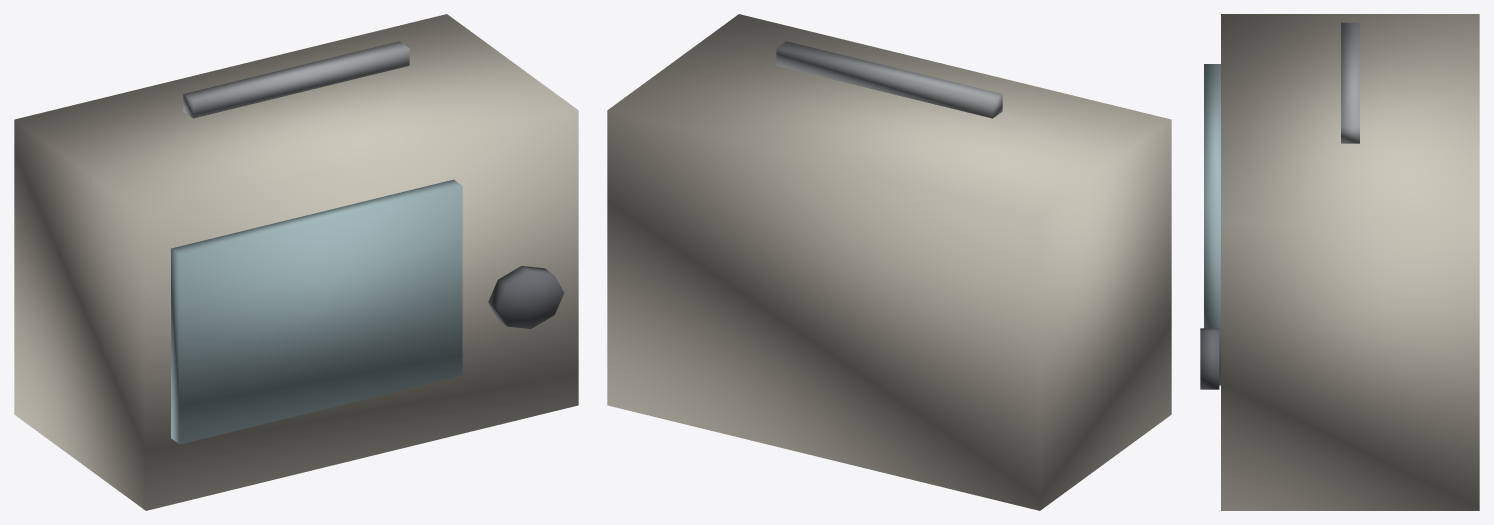
The model's file is portable_television__wide.glb.
3 renders of one model, left to right at view 1: azimuth 30°, elevation 25°; view 2: azimuth 150°, elevation 25°; view 3: azimuth 270°, elevation 25°, orthographic.
Visible parts, largest first — view 1: world; view 2: world; view 3: world.
Boxes of the visible parts, x1,y1,x2,y2 form: world: (14, 14, 578, 510); world: (607, 14, 1171, 510); world: (1200, 14, 1479, 510).
Size of the model in its own units: 0.6448 by 0.4825 by 0.3675.
